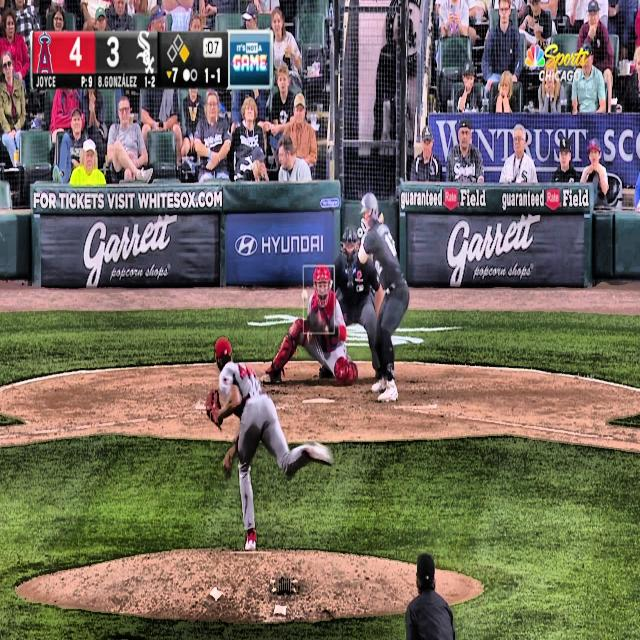baseball: (302, 290, 308, 302)
